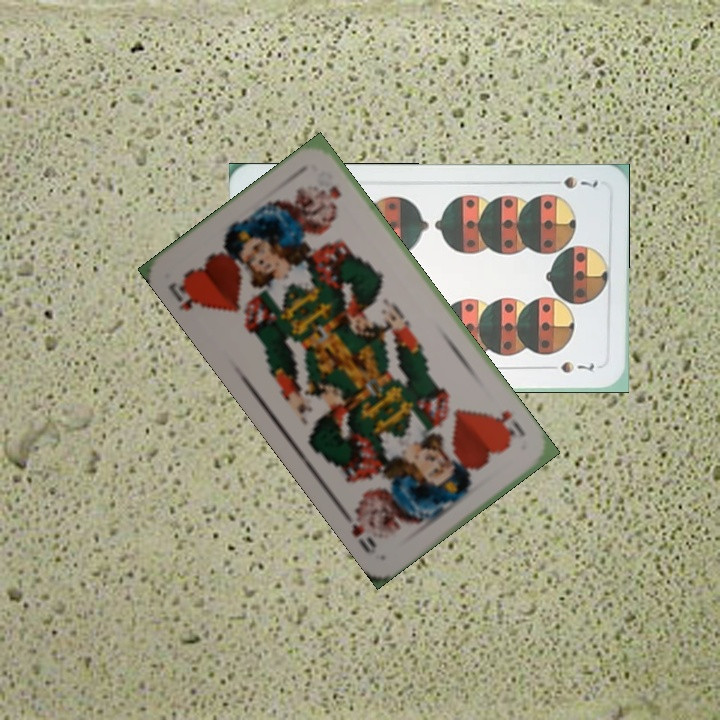HO: (164, 271, 208, 314), (486, 406, 528, 443)
S7: (544, 173, 601, 191)
